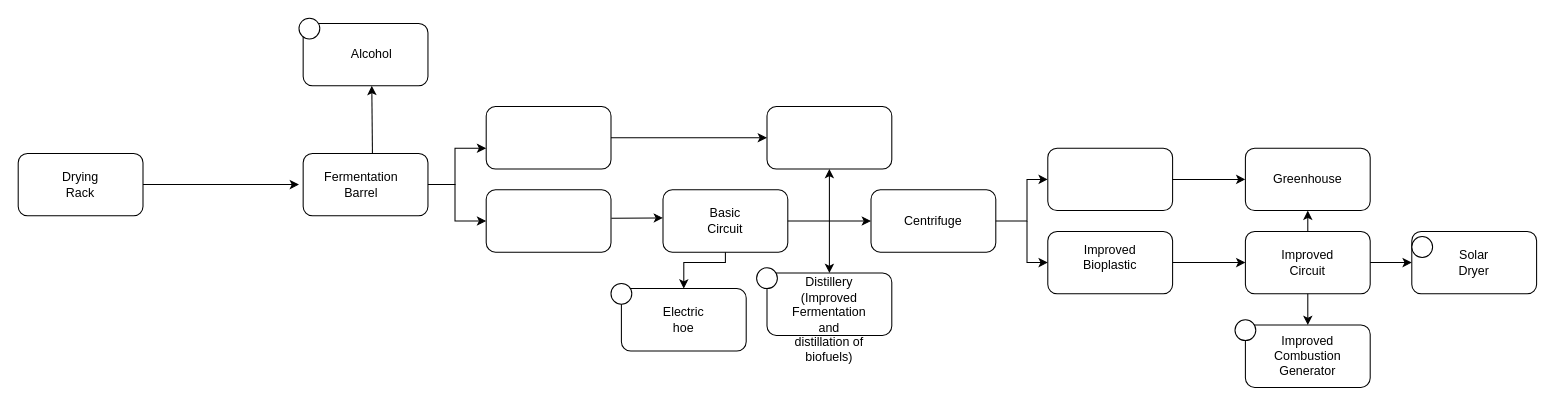
Some shapes in this 1555 by 406 pixel diagram are drawn without their labels. Here are the shapes that lost their labels. From the top down, the centre of each, then its label:
At (548,137): "Biodiesel".
At (829,137): "Combustion Generator (burns biofuels)".
At (1110,179): "Aluminium".
At (548,220): "Bioplastic".
